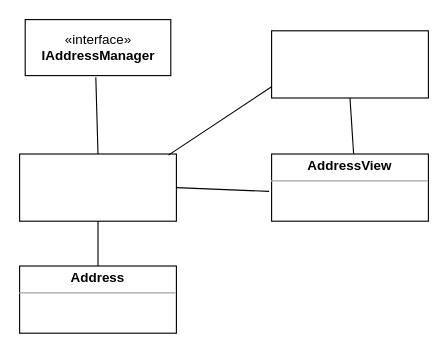
Some shapes in this 448 by 353 pixel diagram are drawn without their labels. Here are the shapes that lost their labels. From the top down, the centre of each, then its label:
(349,64): Program + main()
(97,187): AddressManager
